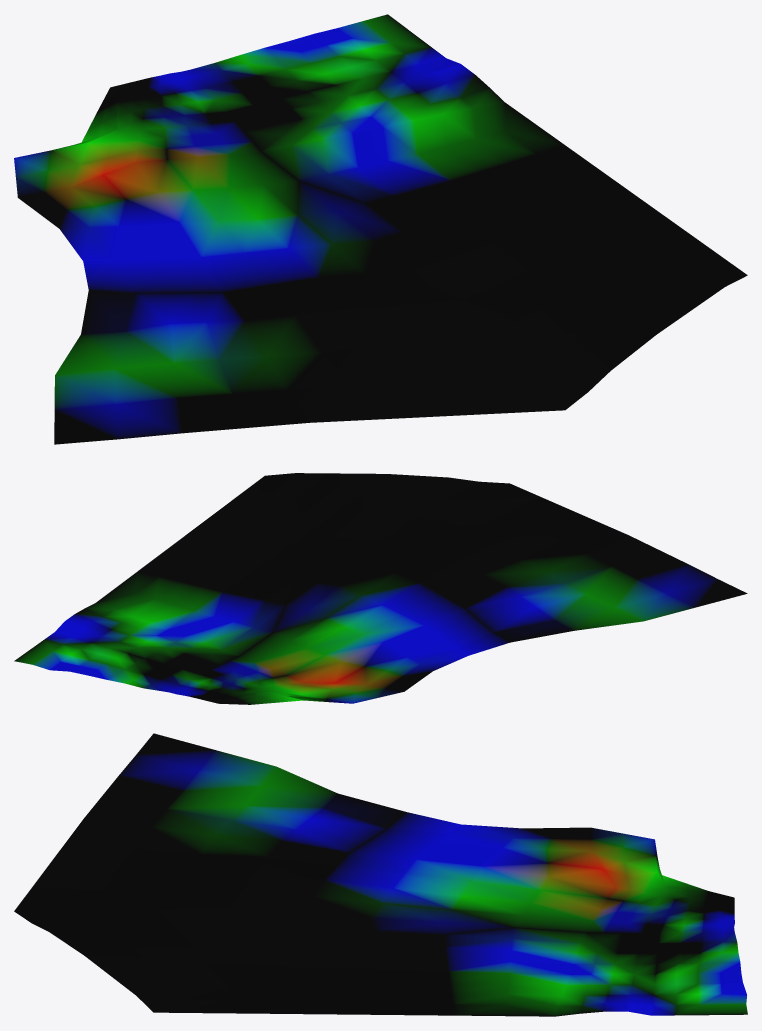
3 renders of one model, top to bottom at view 1: azimuth 30°, elevation 25°; view 2: azimuth 150°, elevation 25°; view 3: azimuth 270°, elevation 25°, orthographic. The views are drawn at different scales.
Parts seen in each view (by area): view 1: Plane; view 2: Plane; view 3: Plane.
Part boxes in pixels (left/top/right/bottom): Plane: left=14, top=14, right=747, bottom=444; Plane: left=14, top=473, right=747, bottom=704; Plane: left=14, top=733, right=747, bottom=1016.
Bounding box in the file's own units: 2146 × 50.15 × 2384.
